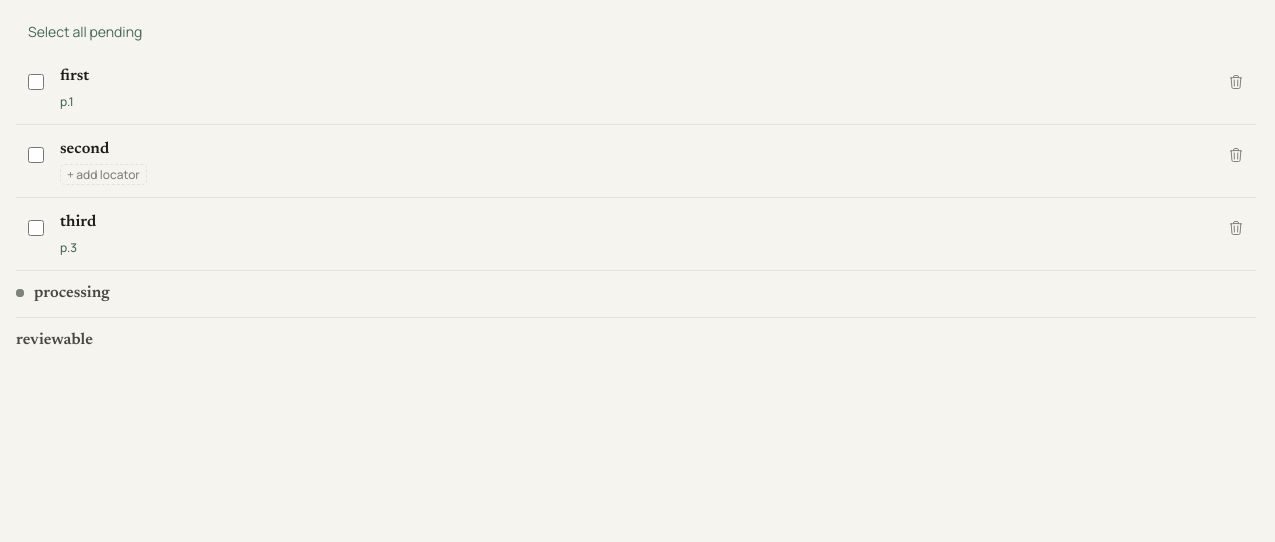
Scenario: Capture-only Pending Capture selection › keeps single-delete Undo and batch selection from overlapping
What coordinates should you click on to do the following:
click the checkbox named "Select first"
I would click on:
 (36, 82)
Its box is [28,74,44,90].
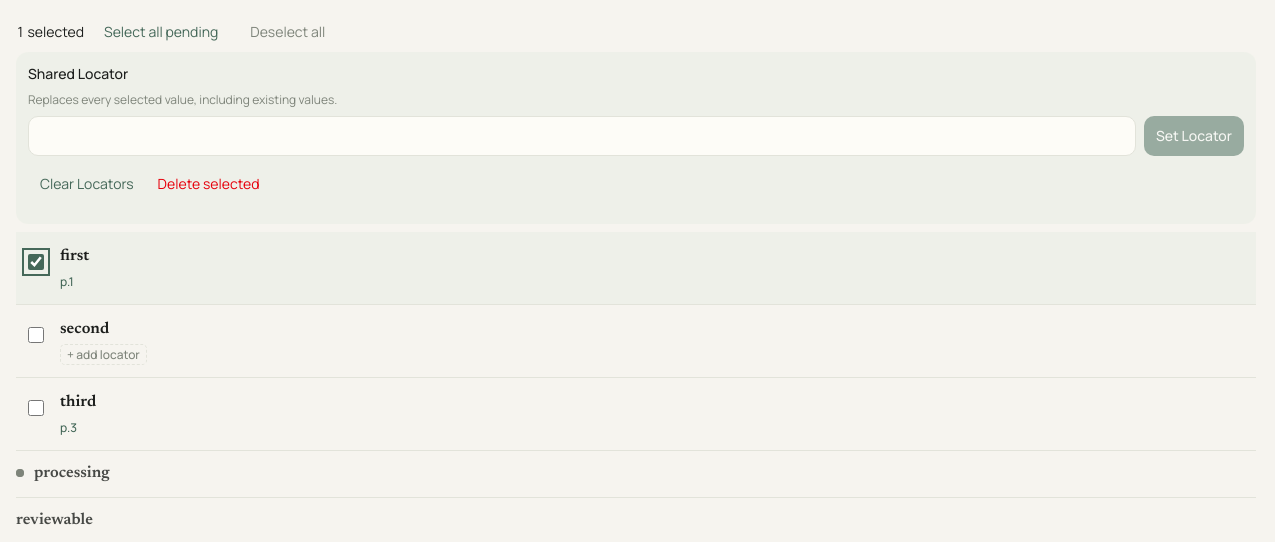
What coordinates should you click on to do the following:
click the button "Deselect all"
I would click on:
 (288, 32)
Its box is [238,12,337,52].
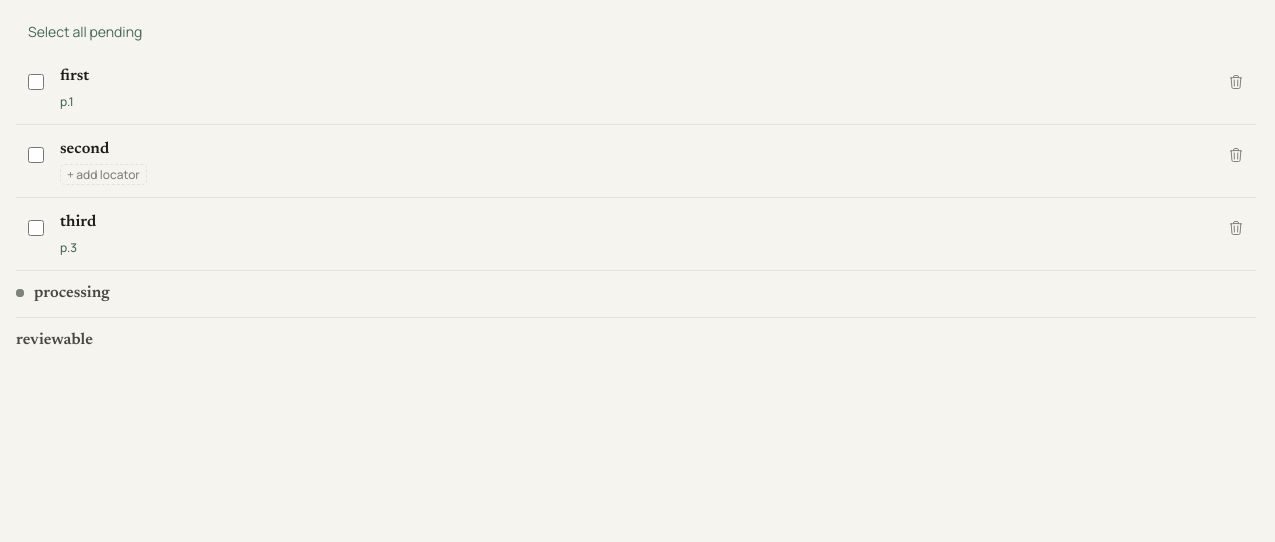
What coordinates should you click on to do the following:
click the button named "Delete first"
I would click on:
 (1236, 82)
Its box is [1216,62,1256,102].
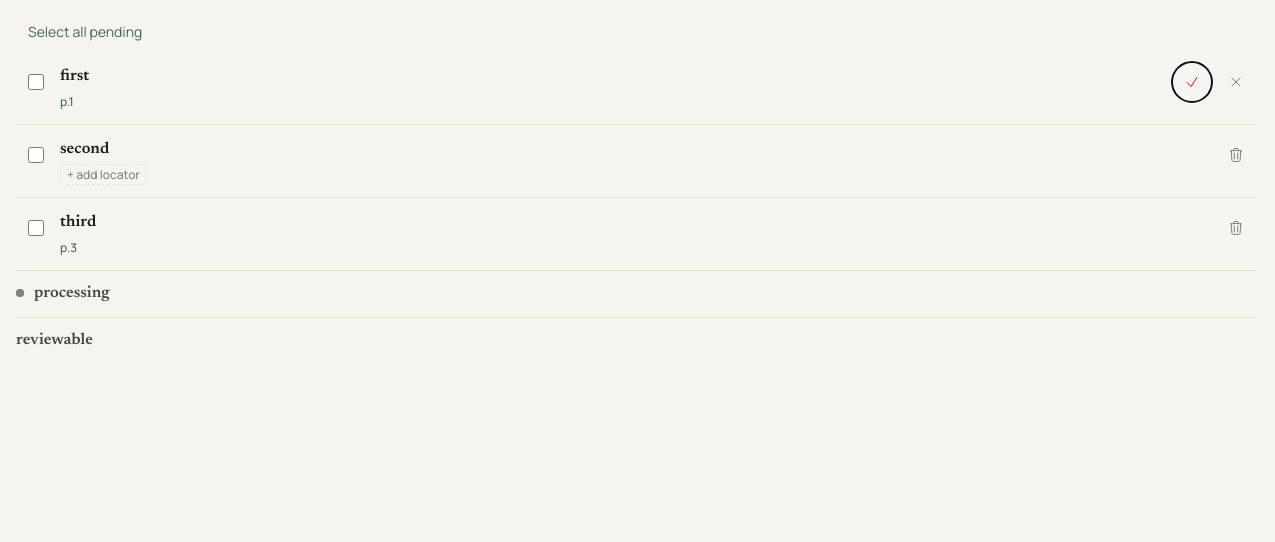
What coordinates should you click on to do the following:
click the button named "Confirm delete first"
I would click on:
 (1192, 82)
Its box is [1172,62,1212,102].
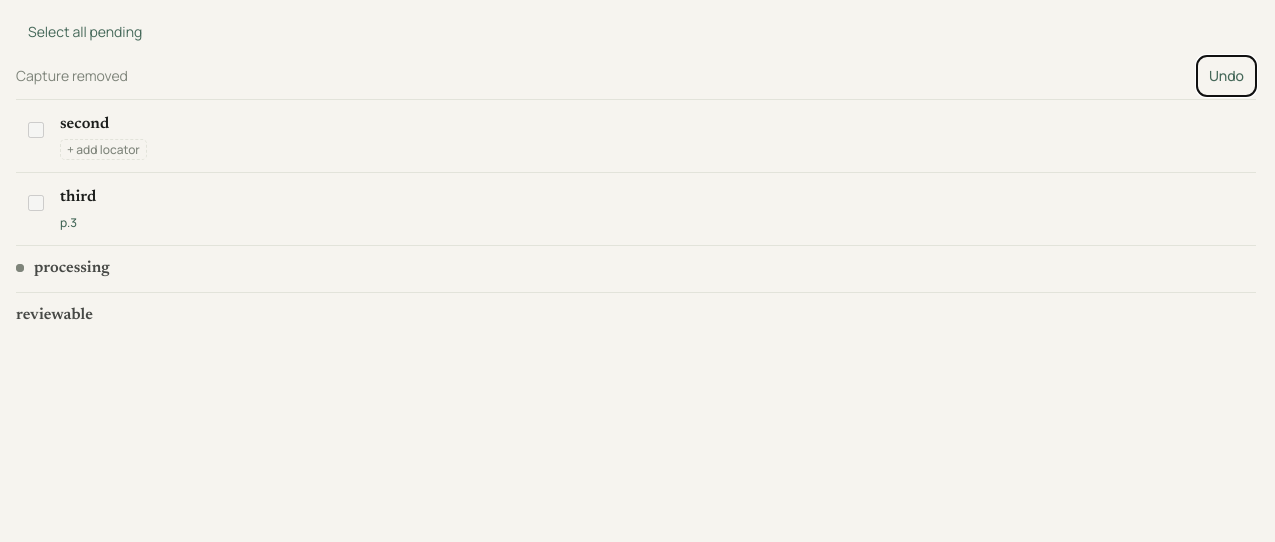
Check: the button "Select all pending" is disabled, box [16,12,154,52]
Check: the checkbox named "Select second" is disabled, box [28,122,44,138]
What coordinates should you click on to do the following:
click the button with aria-label "Undo delete first"
I would click on:
 (1226, 76)
Its box is [1197,56,1256,96].
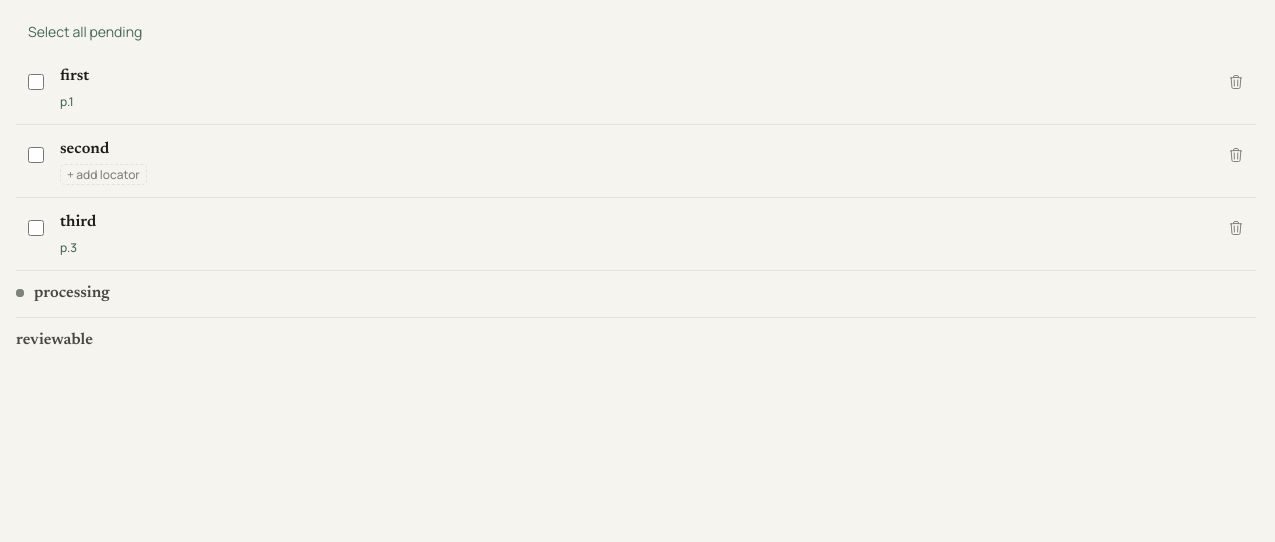
Check: the checkbox named "Select first" is enabled, box [28,74,44,90]
